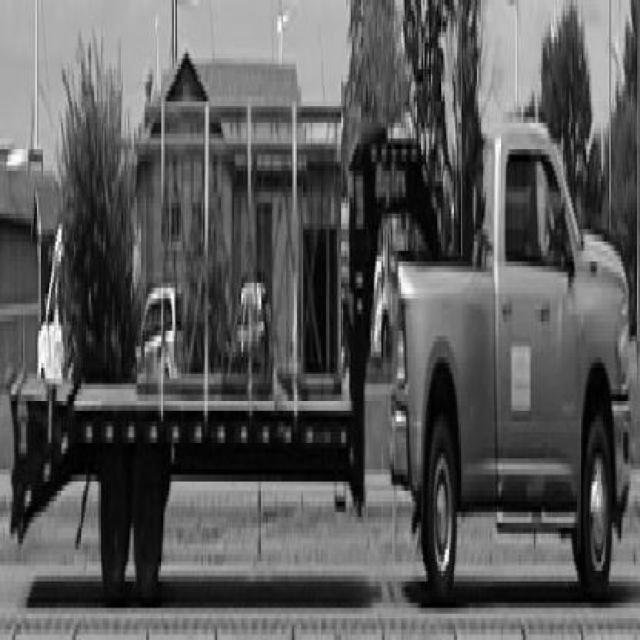Box Truck: (10, 146, 447, 603)
Pickup: (391, 116, 636, 608)
